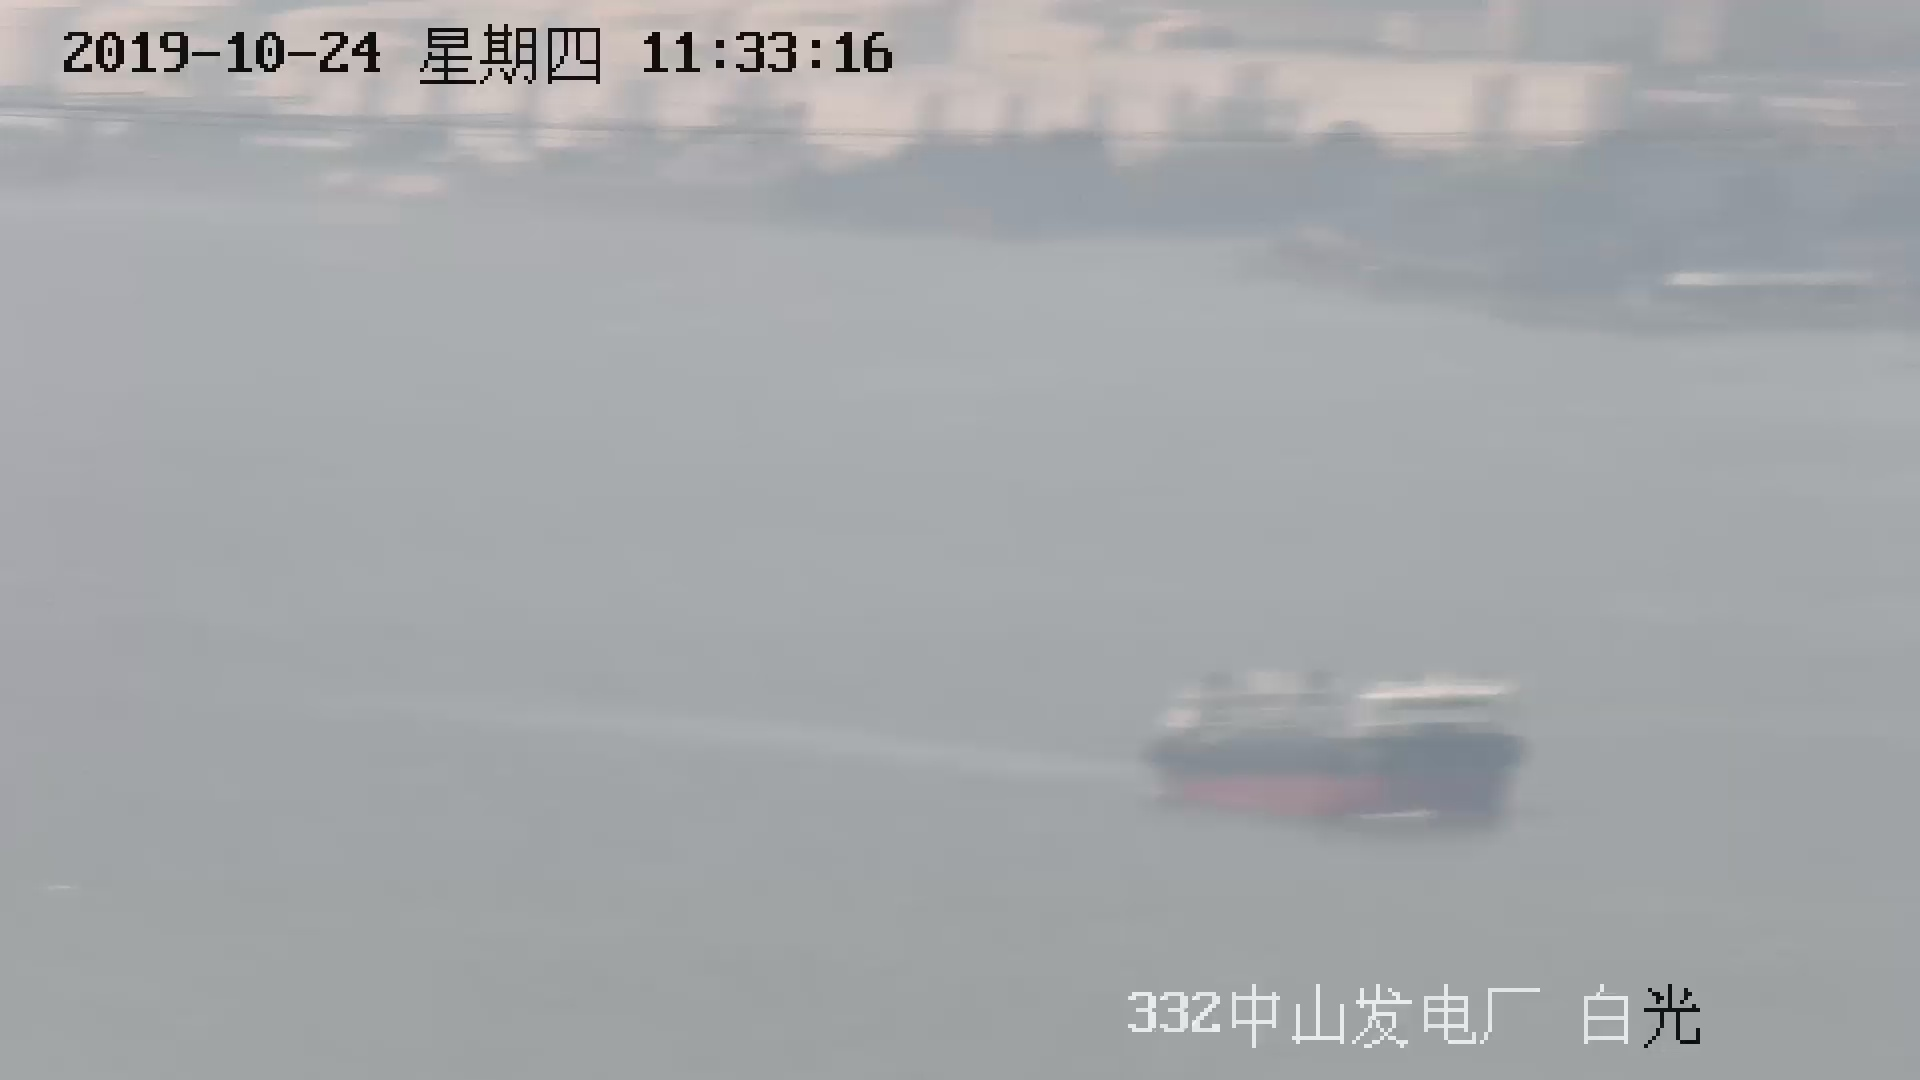ship: (1139, 655, 1527, 832)
